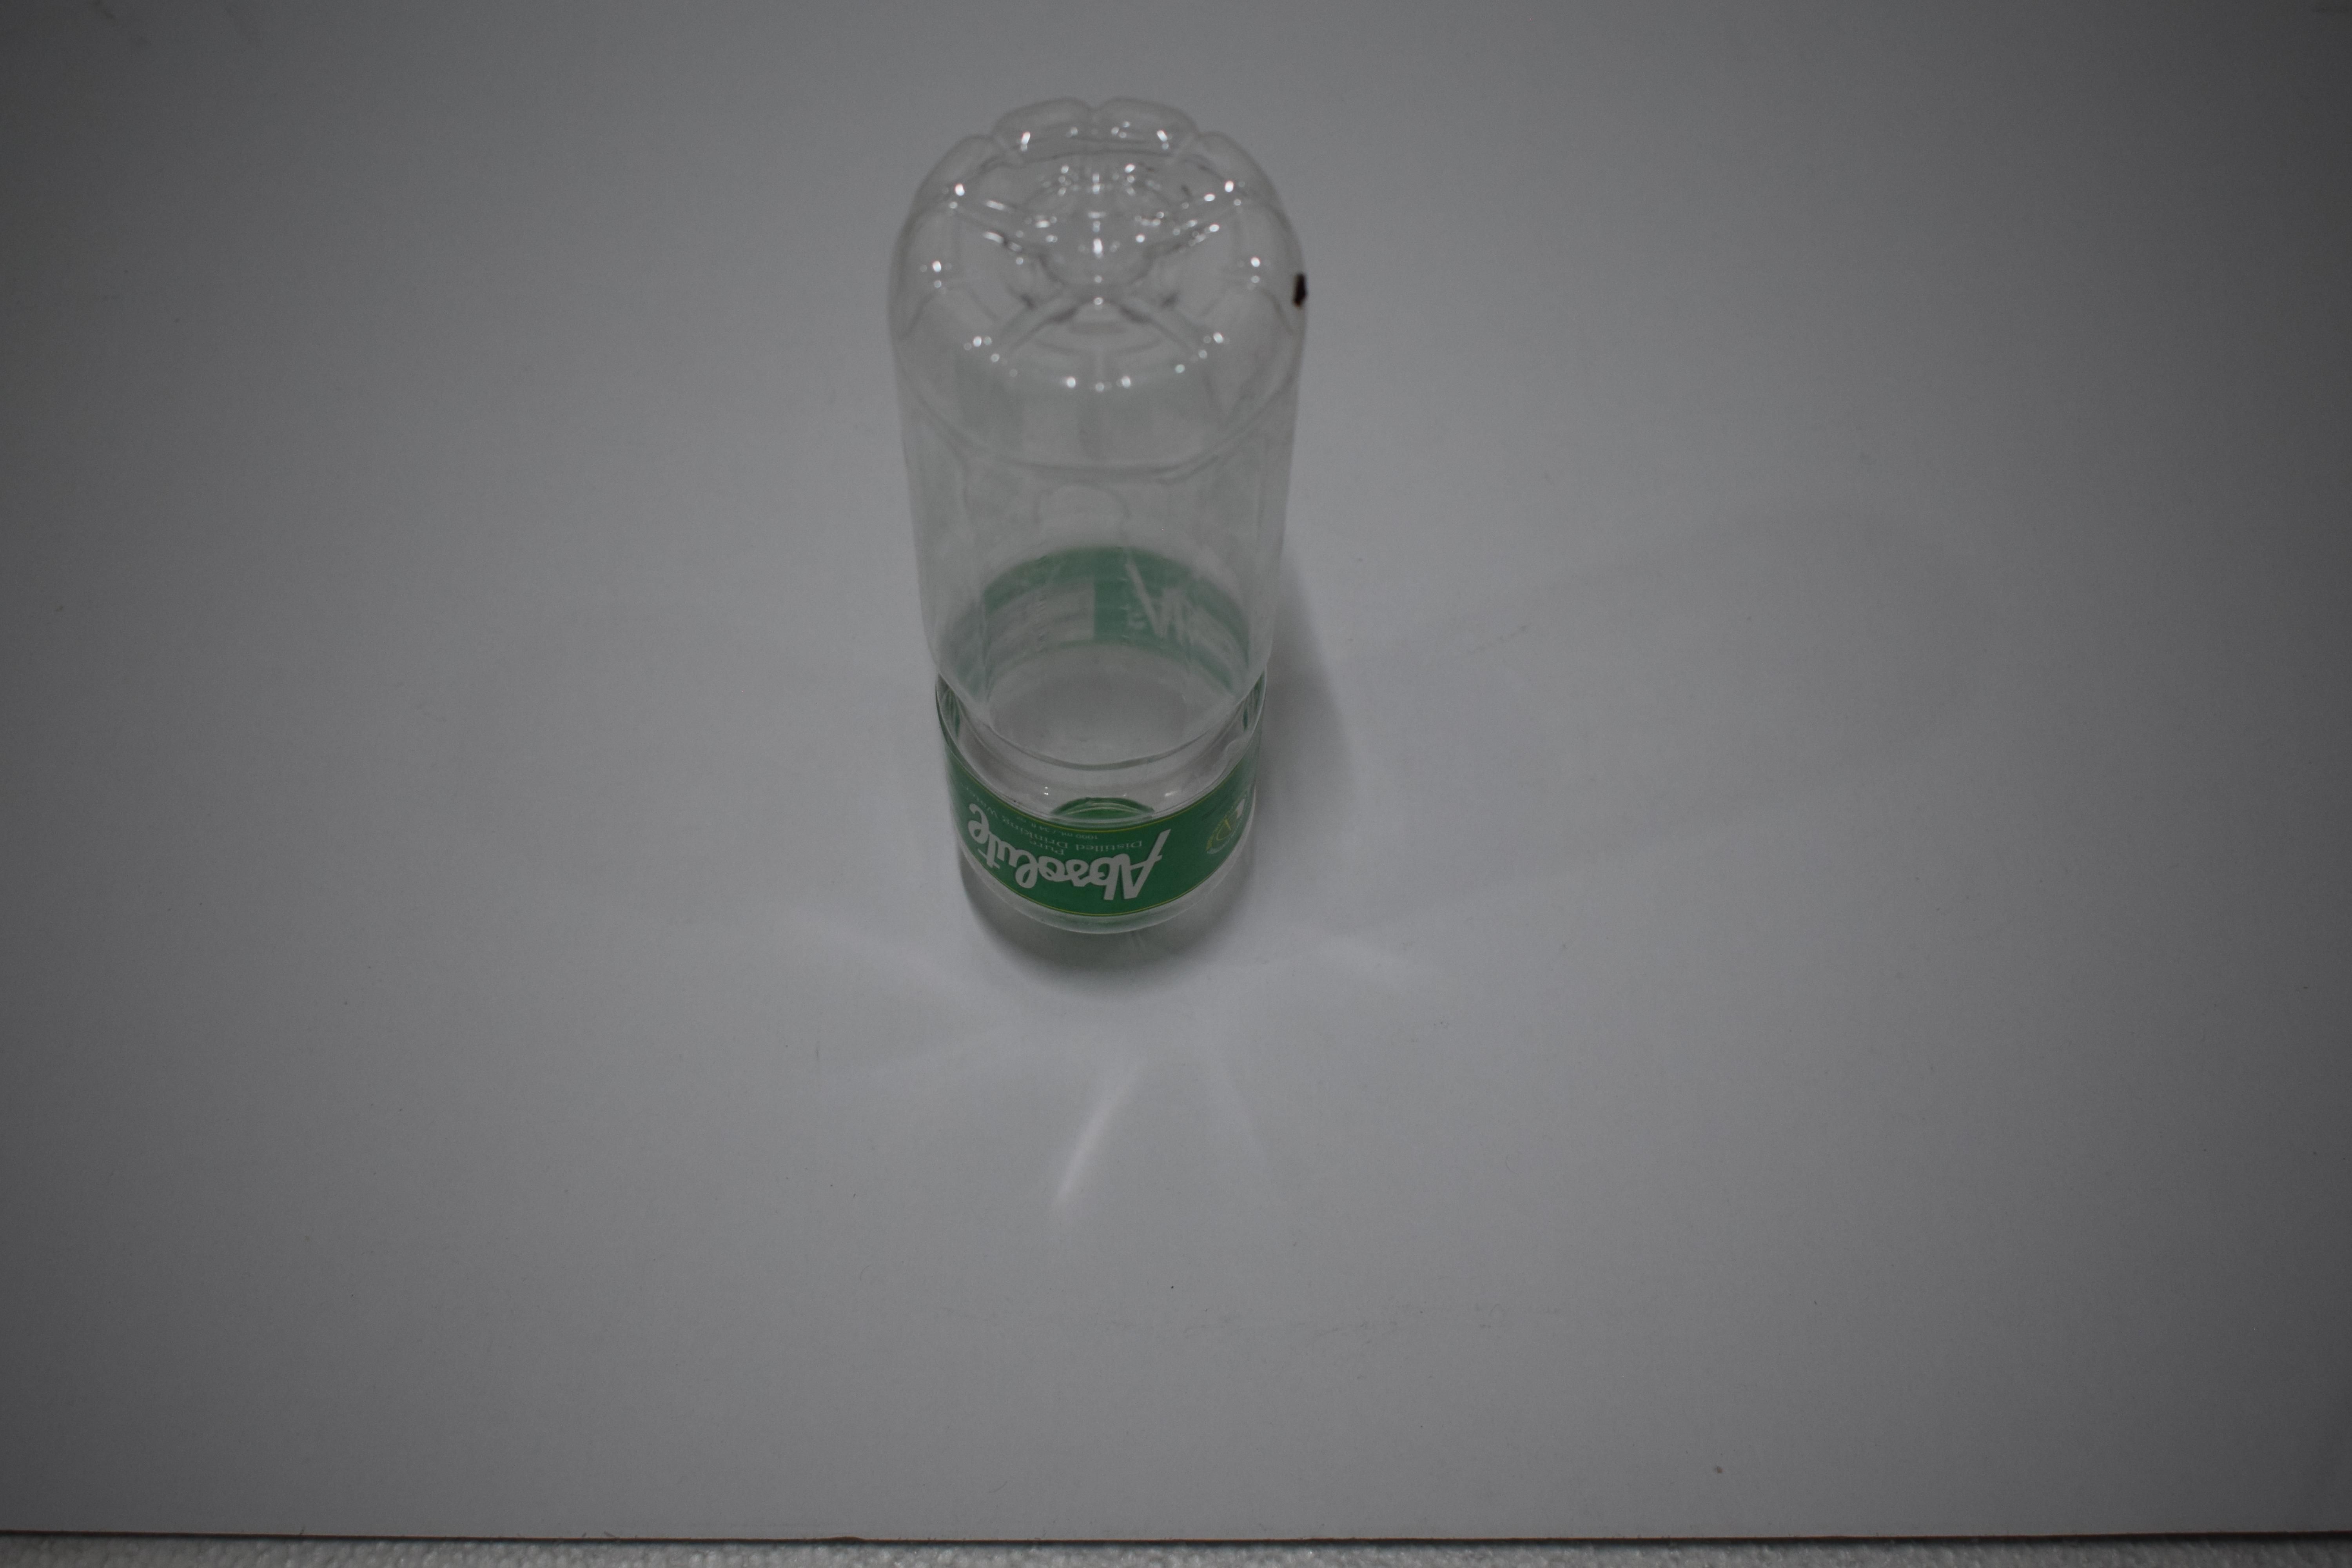bottle: (870, 471, 1293, 565)
